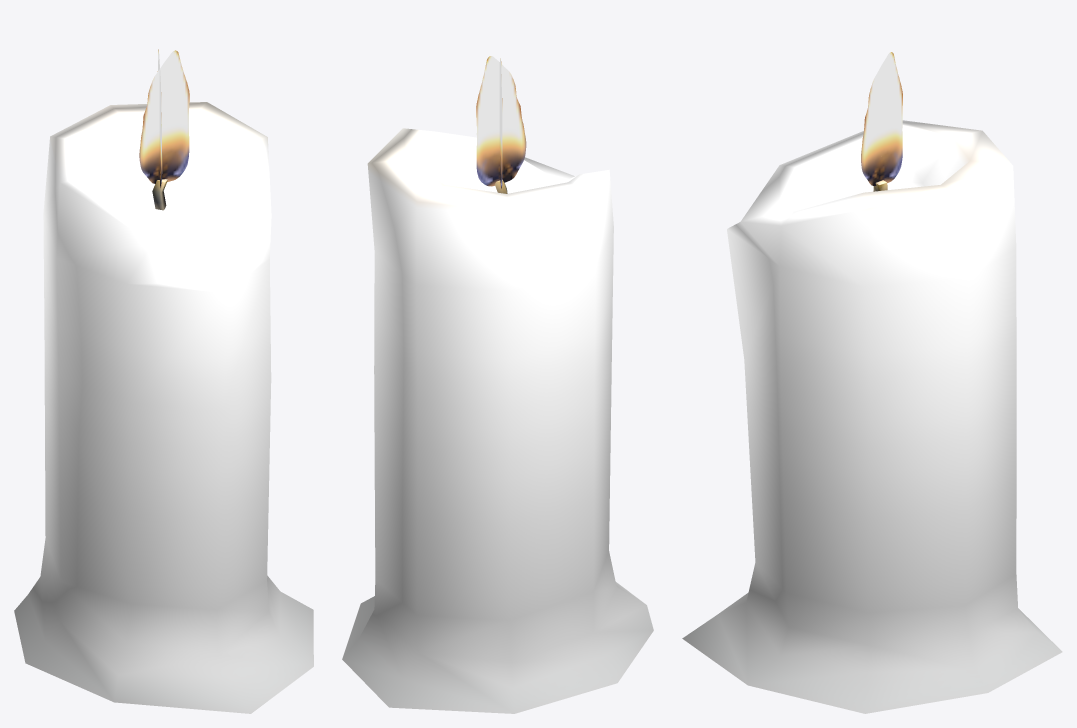
File: CandleShapeB.010.glb
3 renders of one model, left to right at view 1: azimuth 30°, elevation 25°; view 2: azimuth 150°, elevation 25°; view 3: azimuth 270°, elevation 25°, orthographic.
Visible parts, largest first — view 1: CandleShapeB.010; view 2: CandleShapeB.010; view 3: CandleShapeB.010.
Part boxes in pixels (x1,y1,x2,y2): CandleShapeB.010: (14,49,313,713); CandleShapeB.010: (342,56,653,713); CandleShapeB.010: (682,52,1062,713).
Size of the model in its own units: 0.0966 by 0.2031 by 0.117.
Materials: 2 (2 with a texture image).
